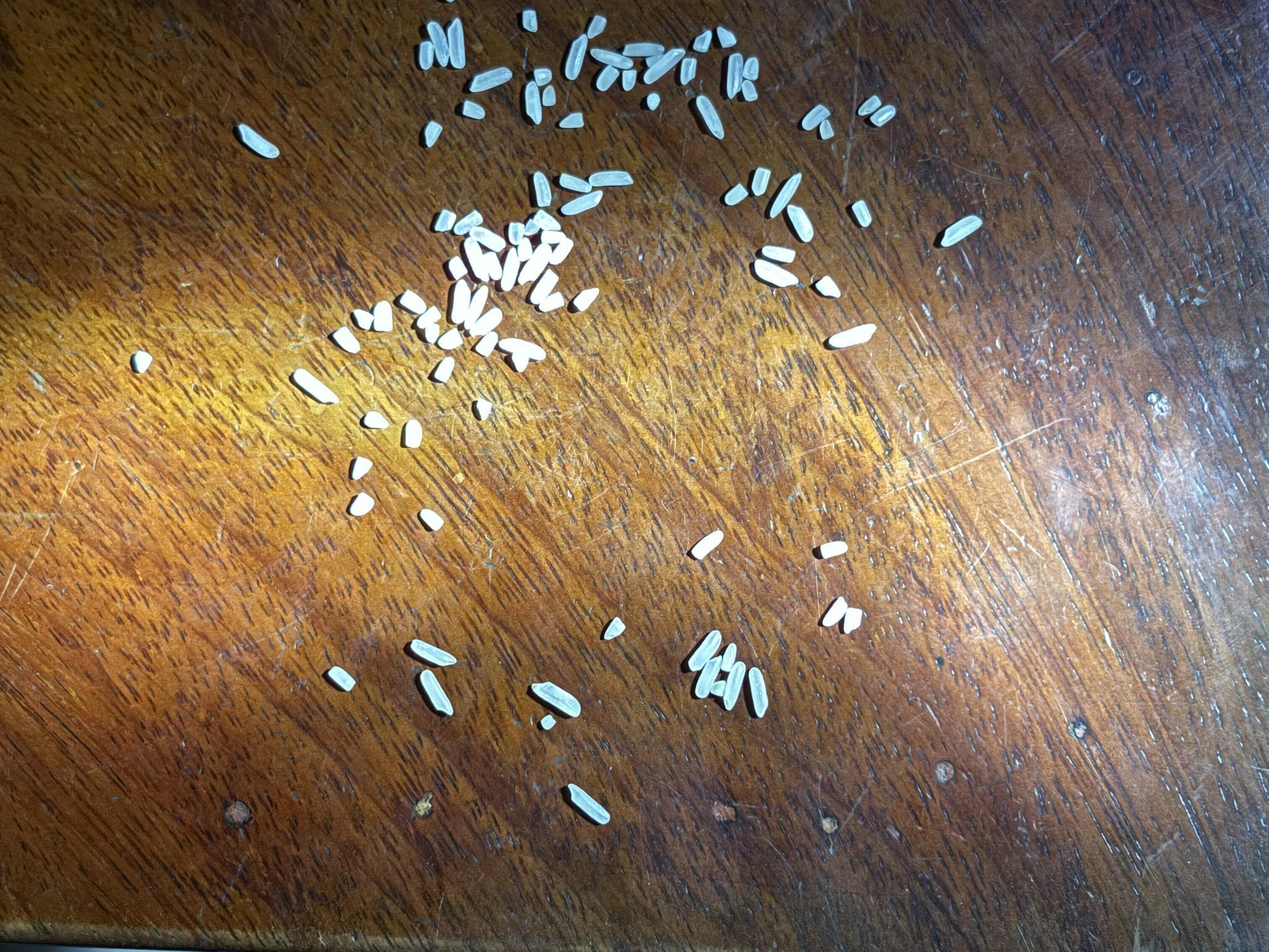Rice-th-y-nh: (529, 674, 582, 722), (567, 780, 611, 828), (827, 316, 877, 357), (642, 43, 686, 89), (416, 668, 456, 718), (766, 170, 804, 222), (410, 633, 457, 674), (940, 209, 983, 253), (752, 253, 798, 294), (686, 627, 724, 675), (517, 240, 554, 289), (692, 92, 728, 142), (292, 367, 339, 405), (468, 61, 513, 100), (742, 666, 775, 718), (440, 17, 473, 69), (459, 235, 494, 284), (691, 652, 726, 701), (560, 184, 604, 222), (559, 33, 593, 82), (502, 329, 547, 366), (718, 661, 751, 711), (421, 20, 454, 67), (590, 42, 634, 77), (237, 123, 279, 159), (460, 284, 493, 329), (588, 162, 634, 194), (784, 202, 818, 245), (719, 52, 749, 99), (468, 221, 507, 257), (496, 246, 526, 292), (446, 279, 476, 324), (622, 33, 665, 64), (690, 525, 725, 563), (519, 80, 547, 126), (528, 266, 560, 306), (468, 306, 505, 338), (799, 100, 831, 134), (761, 239, 796, 268), (529, 171, 556, 208), (571, 283, 601, 315), (471, 329, 501, 360), (453, 208, 484, 238), (822, 595, 849, 629), (558, 170, 592, 197), (370, 299, 397, 333), (332, 325, 361, 355), (748, 165, 774, 198), (327, 665, 358, 692), (479, 249, 505, 281), (549, 235, 575, 267), (432, 354, 458, 386), (849, 197, 874, 230), (868, 101, 896, 130), (819, 537, 849, 564), (398, 288, 428, 315), (532, 208, 563, 234), (840, 605, 866, 636), (594, 63, 620, 94), (538, 289, 566, 317), (437, 325, 465, 353), (722, 180, 749, 209), (601, 614, 627, 644), (401, 418, 425, 450), (458, 96, 486, 123), (432, 206, 458, 235), (421, 118, 445, 149), (718, 642, 741, 674), (418, 507, 446, 533), (814, 274, 843, 299), (677, 56, 700, 87), (415, 304, 441, 331), (349, 492, 376, 518), (558, 108, 586, 133), (415, 40, 437, 71), (585, 12, 608, 41), (446, 254, 469, 282), (857, 93, 882, 118), (691, 28, 714, 55), (715, 24, 738, 51), (740, 55, 763, 82), (510, 347, 533, 374), (514, 237, 536, 264), (505, 220, 527, 247), (352, 307, 375, 332), (520, 8, 542, 34), (540, 227, 567, 248), (531, 65, 554, 89), (351, 456, 373, 481), (363, 411, 390, 431), (739, 79, 760, 104), (474, 397, 495, 421), (619, 68, 639, 92), (522, 217, 542, 239), (817, 118, 836, 141), (540, 84, 558, 108), (423, 322, 442, 344), (709, 677, 727, 700), (539, 713, 557, 732), (645, 91, 661, 112)
